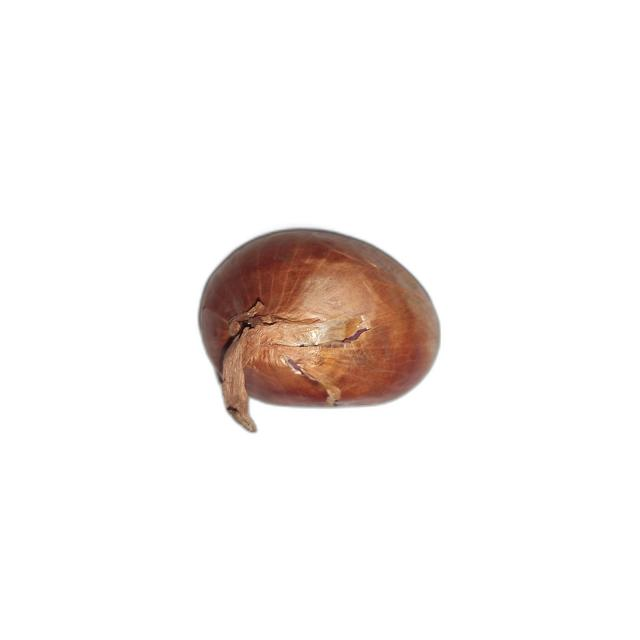onion: (196, 226, 444, 433)
